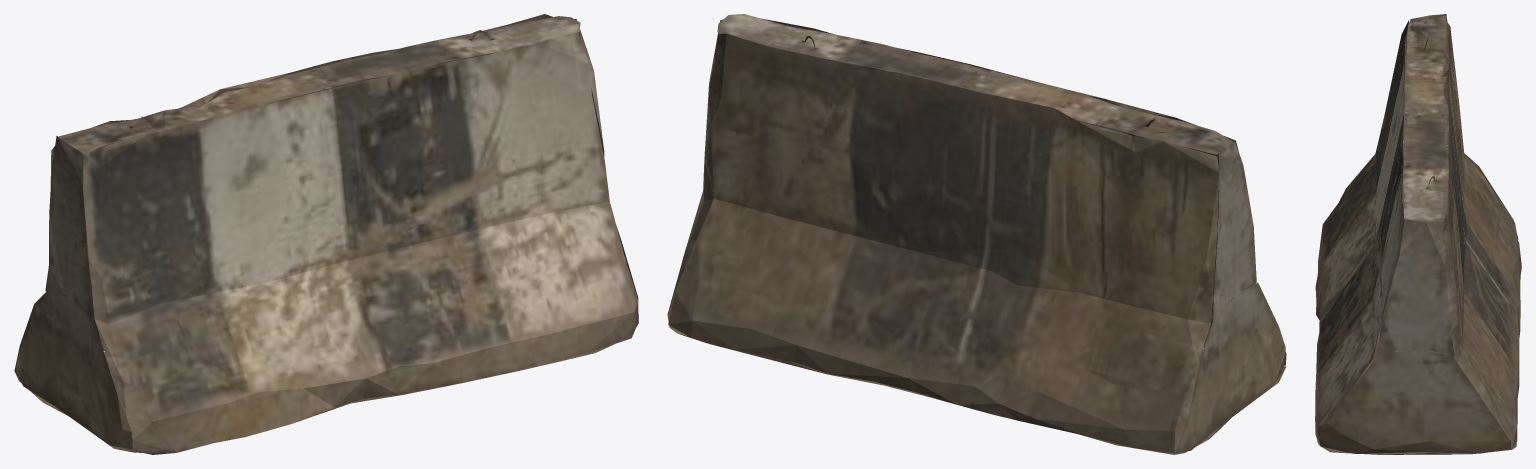
File: concrete_road_barrier.glb
The picture shows the model from 3 angles, left to right: view 1: azimuth 30°, elevation 25°; view 2: azimuth 150°, elevation 25°; view 3: azimuth 270°, elevation 25°; orthographic projection. The views are drawn at different scales.
Parts seen in each view (by area): view 1: concrete_road_barrier; view 2: concrete_road_barrier; view 3: concrete_road_barrier.
Part boxes in pixels (x1,y1,x2,y2): concrete_road_barrier: [14, 14, 638, 454]; concrete_road_barrier: [667, 14, 1286, 454]; concrete_road_barrier: [1315, 14, 1521, 454].
Size of the model in its own units: 1.54 by 0.8252 by 0.6356.
1 material, 1 textured.
